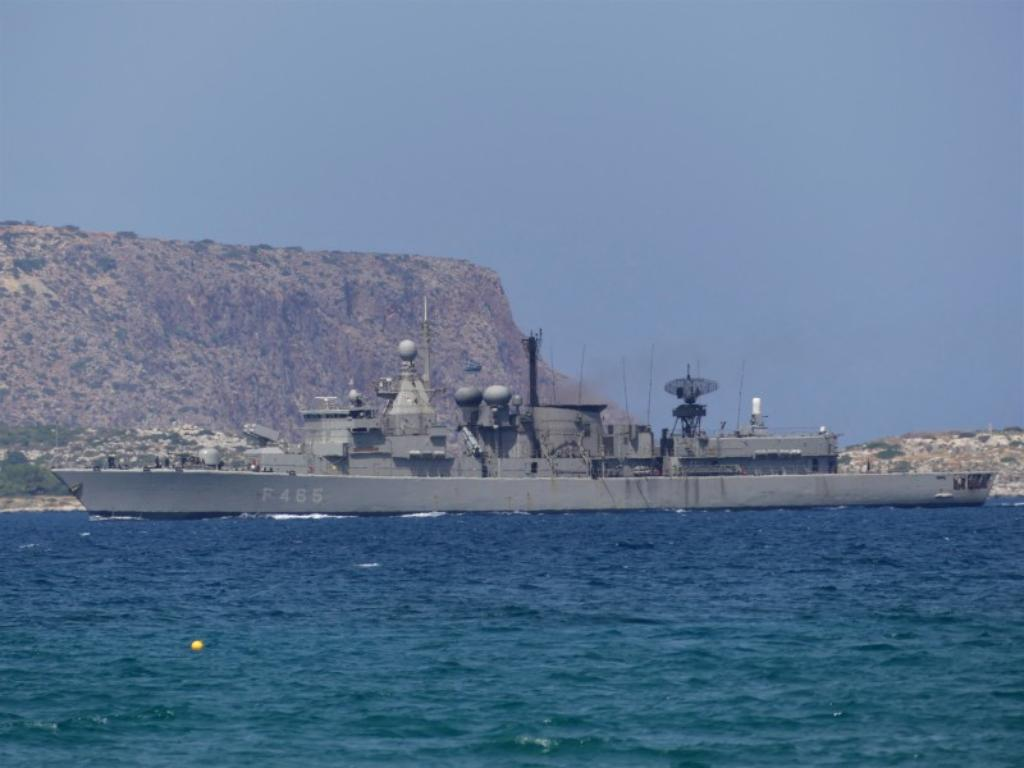Warship: (46, 304, 996, 520)
